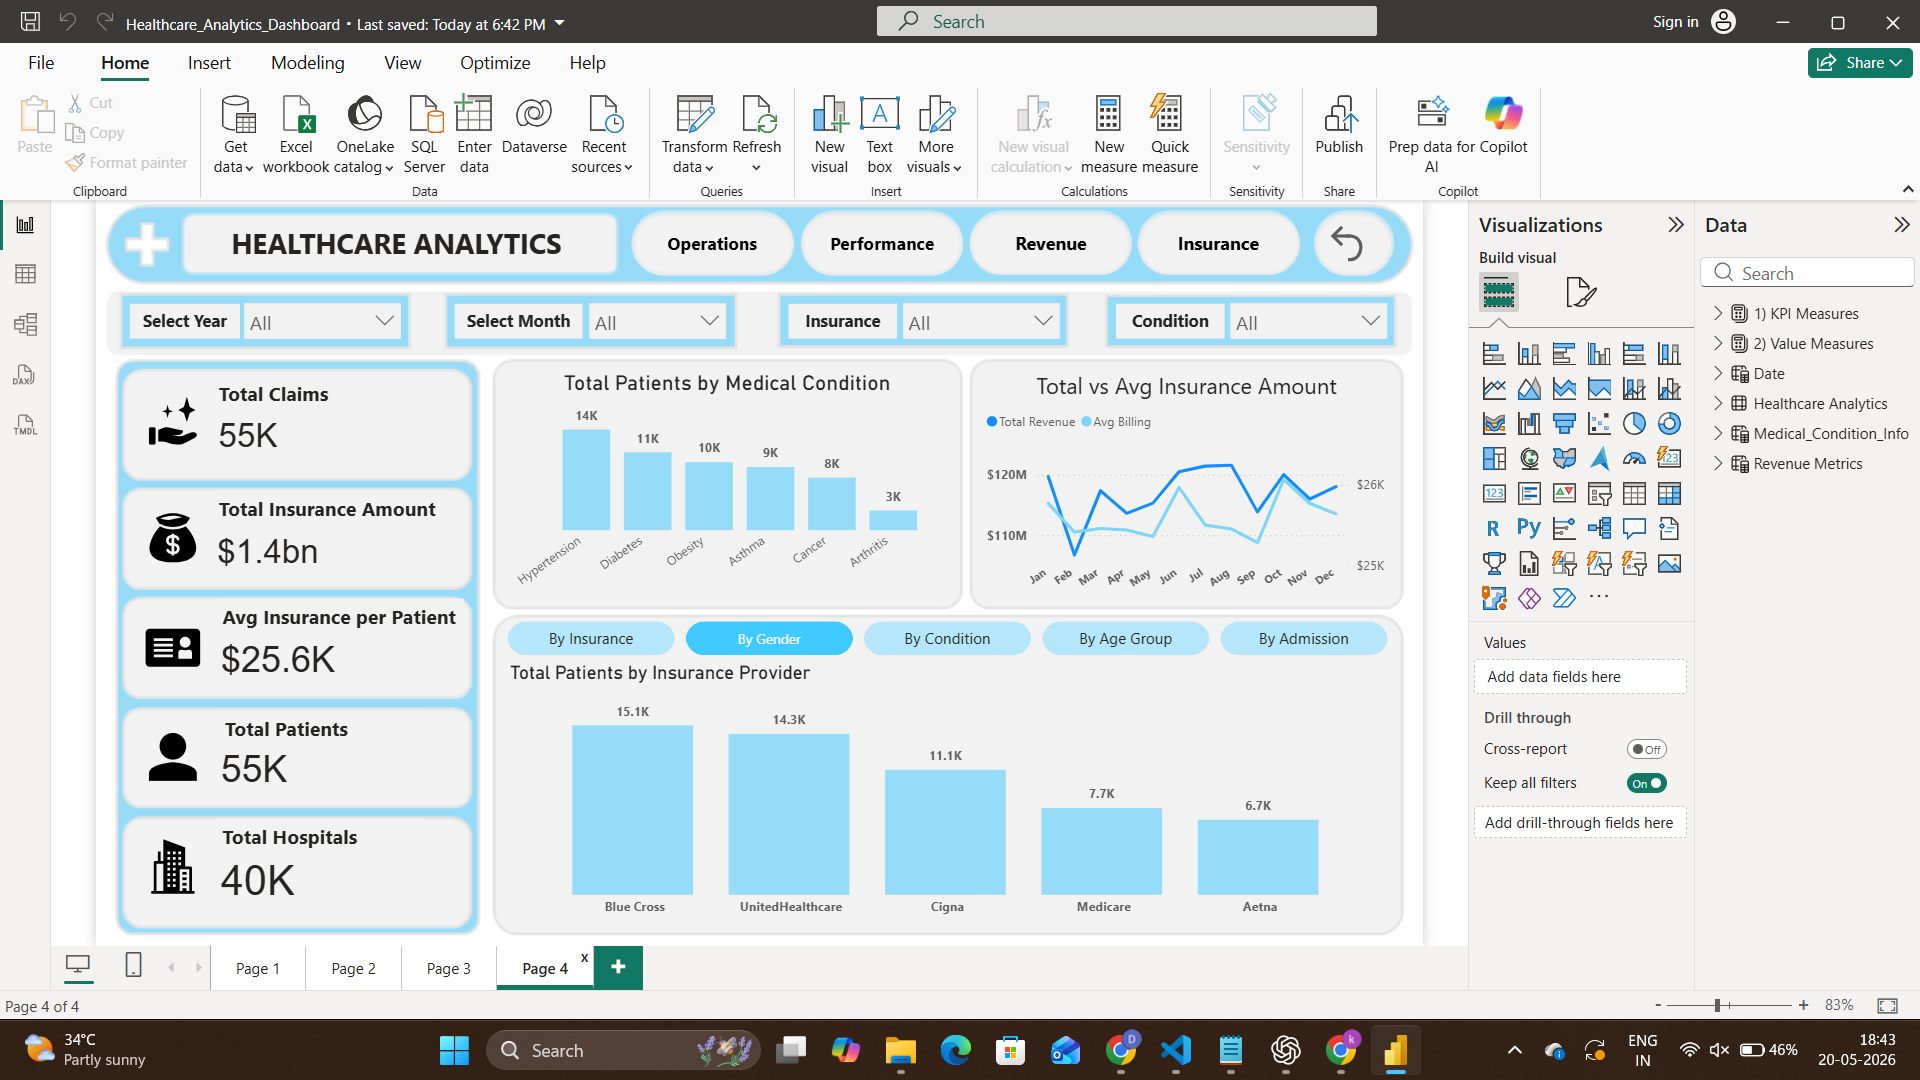

The dashboard page shown, as its layout file describes it:
{"tool":"powerbi","page":{"name":"Page 4","canvas":[1280,720],"ordinal":3},"visuals":[{"type":"cardVisual","fields":{"Data":["1) KPI Measures.Total Claims"]},"box":[89.6,179.3,198.6,93.3],"z":0},{"type":"clusteredColumnChart","title":"Total Patients by Insurance Provider","fields":{"Y":["1) DAX Measures.Total Patients"],"Category":["Healthcare Analytics.Insurance Provider"]},"box":[395.1,444.8,855.1,255.6],"z":0,"group":"g2"},{"type":"textbox","box":[113.9,168.4,176.8,44.8],"z":1000},{"type":"image","box":[38.8,181.7,71.5,61.8],"z":2000},{"type":"textbox","box":[113.4,279.9,226.8,45.8],"z":3000},{"type":"textbox","box":[117.5,385.2,238.6,44.8],"z":4000},{"type":"bookmarkNavigator","box":[397.5,406,851.5,33.9],"z":5000,"group":"g2"},{"type":"textbox","box":[119.4,492.2,195.4,44.6],"z":5000},{"type":"textbox","box":[117.5,597.1,198.6,44.8],"z":6000},{"type":"image","box":[38.6,294.3,71.4,62.9],"z":7000},{"type":"image","box":[38.6,400,71.4,62.9],"z":8000},{"type":"image","box":[38.6,611.4,71.4,62.9],"z":9000},{"type":"cardVisual","fields":{"Data":["1) KPI Measures.Total Hospitals"]},"box":[91.7,616.5,213.5,79.6],"z":10000},{"type":"cardVisual","fields":{"Data":["1) KPI Measures.Avg Insurance per Patient"]},"box":[91.7,396.9,223.2,92.9],"z":11000},{"type":"cardVisual","fields":{"Data":["1) KPI Measures.Total Patients"]},"box":[91.7,512.7,223.2,71.2],"z":12000},{"type":"cardVisual","fields":{"Data":["1) KPI Measures.Insurance Covered Amount"]},"box":[88.4,291.9,203.5,93.3],"z":13000},{"type":"card","fields":{"Values":["2) Value Measures.Total Claims KPI"]},"box":[220.8,203.9,162.9,37.4],"z":14000},{"type":"card","fields":{"Values":["2) Value Measures.Avg Billing KPI"]},"box":[215.6,430,164.7,36.3],"z":16000},{"type":"card","fields":{"Values":["2) Value Measures.Patients KPI"]},"box":[214.7,530.8,164.1,37.4],"z":17000},{"type":"card","fields":{"Values":["2) Value Measures.Hospitals KPI"]},"box":[213.5,637,164.1,37.4],"z":18000},{"type":"card","fields":{"Values":["2) Value Measures.Total Revenue KPI"]},"box":[235,322.2,126,37.5],"z":19000},{"type":"slicer","fields":{"Values":["Healthcare Analytics.Insurance Provider"]},"box":[768.5,89.3,171.3,49.5],"z":20000},{"type":"textbox","box":[668.4,100.1,105,33.8],"z":21000},{"type":"textbox","box":[32.6,100.1,106.2,33.8],"z":22000},{"type":"slicer","fields":{"Values":["Date.Year"]},"box":[132.7,89.3,171.3,49.5],"z":23000},{"type":"textbox","box":[859,159.3,387.3,41],"z":24000},{"type":"actionButton","box":[680.4,9.7,156.8,63.9],"z":25000},{"type":"actionButton","box":[843.3,9.7,156.8,62.7],"z":26000},{"type":"actionButton","box":[1005,9.7,156.8,62.7],"z":27000},{"type":"actionButton","box":[516.4,9.7,156.8,63.9],"z":28000},{"type":"actionButton","box":[1175.1,9.7,78.4,63.9],"z":29000},{"type":"textbox","box":[984.5,100.1,105,33.8],"z":30000},{"type":"slicer","fields":{"Values":["Medical_Condition_Info.Medical Condition"]},"box":[1084.6,89.3,171.3,49.5],"z":31000},{"type":"group","id":"g1","title":"Top and Bottom","box":[405.2,417.4,836.3,281.1],"z":32000},{"type":"textbox","box":[346.2,100.1,123.1,33.8],"z":33000},{"type":"slicer","fields":{"Values":["Date.Month name"]},"box":[465.7,89.3,152,49.5],"z":34000},{"type":"lineChart","fields":{"Category":["Date.Month name"],"Y":["1) KPI Measures.Total Revenue"],"Y2":["1) KPI Measures.Avg Billing"]},"box":[854.2,194.2,396.9,190.6],"z":35000},{"type":"textbox","box":[125.5,18.1,375.2,49.5],"z":36000},{"type":"clusteredColumnChart","fields":{"Category":["Healthcare Analytics.Medical Condition"],"Y":["1) KPI Measures.Total Patients"]},"box":[395.7,164.1,427.1,220.8],"z":37000},{"type":"image","box":[38.8,506.3,71.5,61.8],"z":38000},{"type":"group","id":"g2","title":"Insurance (Page 4)","box":[394.9,406,856.3,294.3],"z":42001}]}

Visuals, with their boxes on the page's 1280x720 design canvas (x1, y1, x2, y2). These are canvas units, not pixel positions in the 1920x1080 screenshot, which may show the page scaled, cropped or inside an application window:
cardVisual - 1) KPI Measures.Total Claims: [90, 179, 288, 273]
"Total Patients by Insurance Provider" clusteredColumnChart: [395, 445, 1250, 700]
textbox: [114, 168, 291, 213]
image: [39, 182, 110, 244]
textbox: [113, 280, 340, 326]
textbox: [118, 385, 356, 430]
bookmarkNavigator: [398, 406, 1249, 440]
textbox: [119, 492, 315, 537]
textbox: [118, 597, 316, 642]
image: [39, 294, 110, 357]
image: [39, 400, 110, 463]
image: [39, 611, 110, 674]
cardVisual - 1) KPI Measures.Total Hospitals: [92, 616, 305, 696]
cardVisual - 1) KPI Measures.Avg Insurance per Patient: [92, 397, 315, 490]
cardVisual - 1) KPI Measures.Total Patients: [92, 513, 315, 584]
cardVisual - 1) KPI Measures.Insurance Covered Amount: [88, 292, 292, 385]
card - 2) Value Measures.Total Claims KPI: [221, 204, 384, 241]
card - 2) Value Measures.Avg Billing KPI: [216, 430, 380, 466]
card - 2) Value Measures.Patients KPI: [215, 531, 379, 568]
card - 2) Value Measures.Hospitals KPI: [214, 637, 378, 674]
card - 2) Value Measures.Total Revenue KPI: [235, 322, 361, 360]
slicer - Healthcare Analytics.Insurance Provider: [768, 89, 940, 139]
textbox: [668, 100, 773, 134]
textbox: [33, 100, 139, 134]
slicer - Date.Year: [133, 89, 304, 139]
textbox: [859, 159, 1246, 200]
actionButton: [680, 10, 837, 74]
actionButton: [843, 10, 1000, 72]
actionButton: [1005, 10, 1162, 72]
actionButton: [516, 10, 673, 74]
actionButton: [1175, 10, 1254, 74]
textbox: [984, 100, 1090, 134]
slicer - Medical_Condition_Info.Medical Condition: [1085, 89, 1256, 139]
"Top and Bottom" group: [405, 417, 1242, 698]
textbox: [346, 100, 469, 134]
slicer - Date.Month name: [466, 89, 618, 139]
lineChart - Date.Month name x 1) KPI Measures.Total Revenue: [854, 194, 1251, 385]
textbox: [126, 18, 501, 68]
clusteredColumnChart - Healthcare Analytics.Medical Condition x 1) KPI Measures.Total Patients: [396, 164, 823, 385]
image: [39, 506, 110, 568]
"Insurance (Page 4)" group: [395, 406, 1251, 700]
